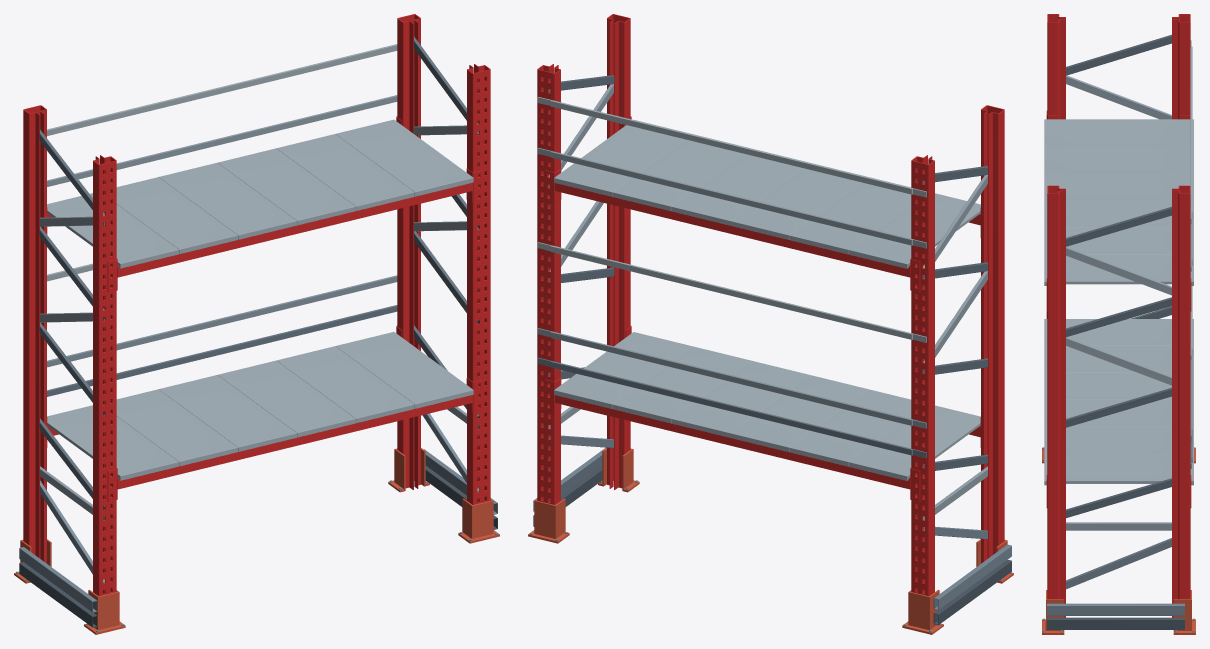
The model's file is SM_ShelfEmptyx1_Red_D.fbx.
3 views of the same model, side by side, from view 1: azimuth 30°, elevation 25°; view 2: azimuth 150°, elevation 25°; view 3: azimuth 270°, elevation 25° (orthographic). The views are drawn at different scales.
Parts seen in each view (by area): view 1: SM_ShelfEmptyx1_Red_D; view 2: SM_ShelfEmptyx1_Red_D; view 3: SM_ShelfEmptyx1_Red_D.
Boxes of the visible parts, <box> form: SM_ShelfEmptyx1_Red_D: <box>14,14,499,634</box>; SM_ShelfEmptyx1_Red_D: <box>528,14,1013,634</box>; SM_ShelfEmptyx1_Red_D: <box>1042,14,1195,634</box>.
Size of the model in its own units: 336 by 370 by 118.
